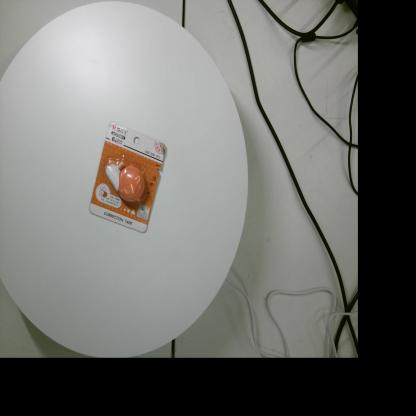Stationery: (89, 122, 165, 233)
